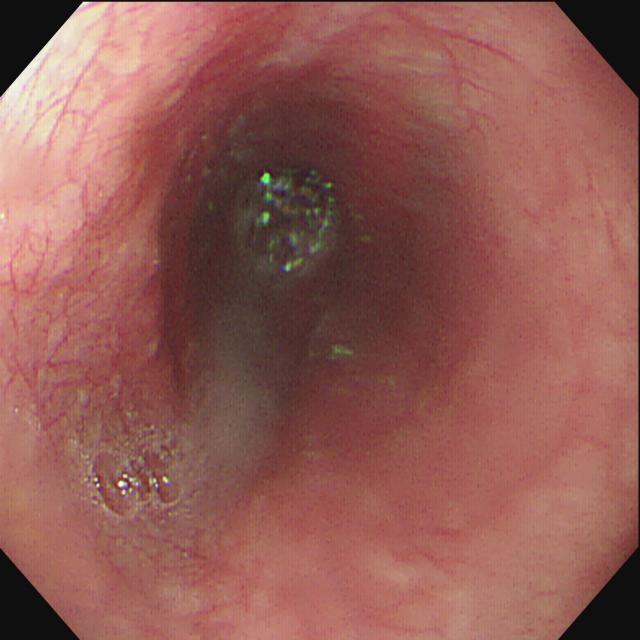T: (84, 419, 188, 522)
U: (252, 169, 336, 274)
